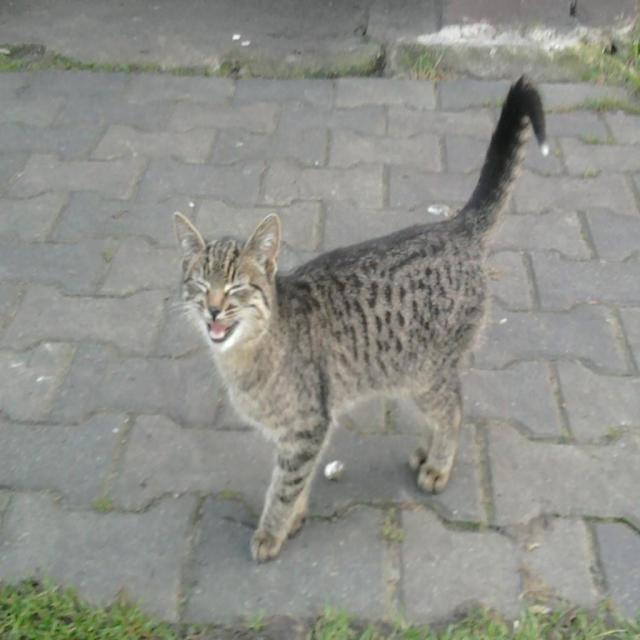Cat: (157, 72, 547, 559)
